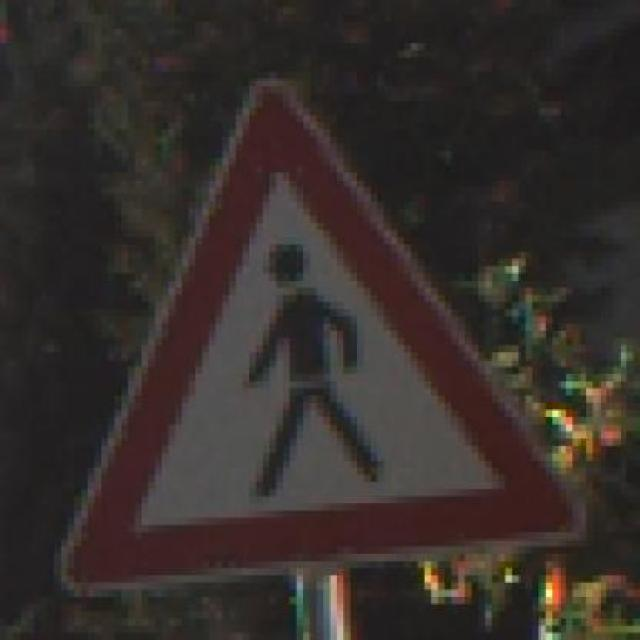Pedestrian Crossing: (47, 72, 599, 597)
